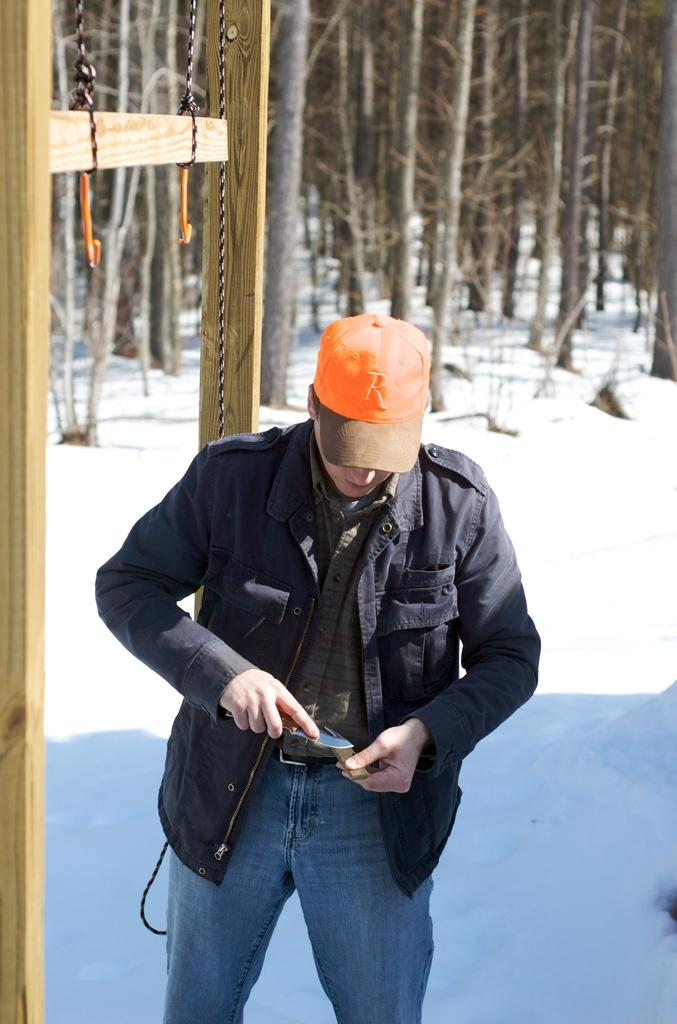Hat: (306, 308, 438, 471)
